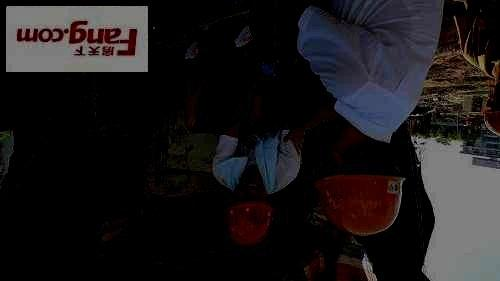helmet: (314, 122, 406, 236), (226, 176, 273, 245)
